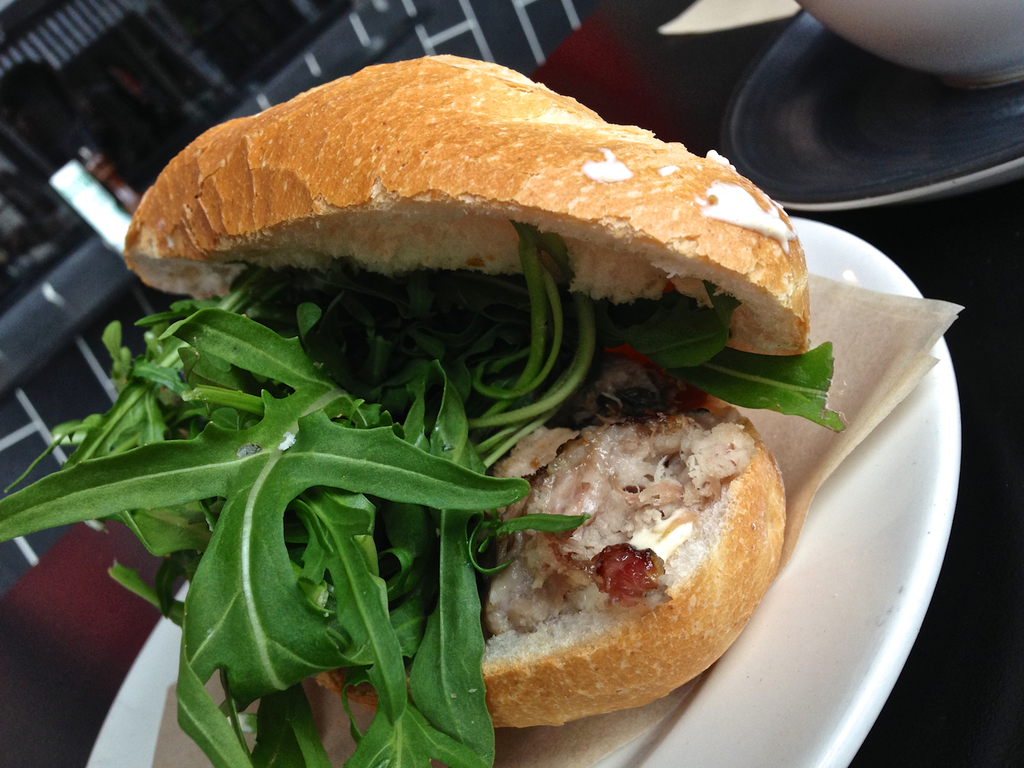Hamburger: (0, 53, 852, 767)
